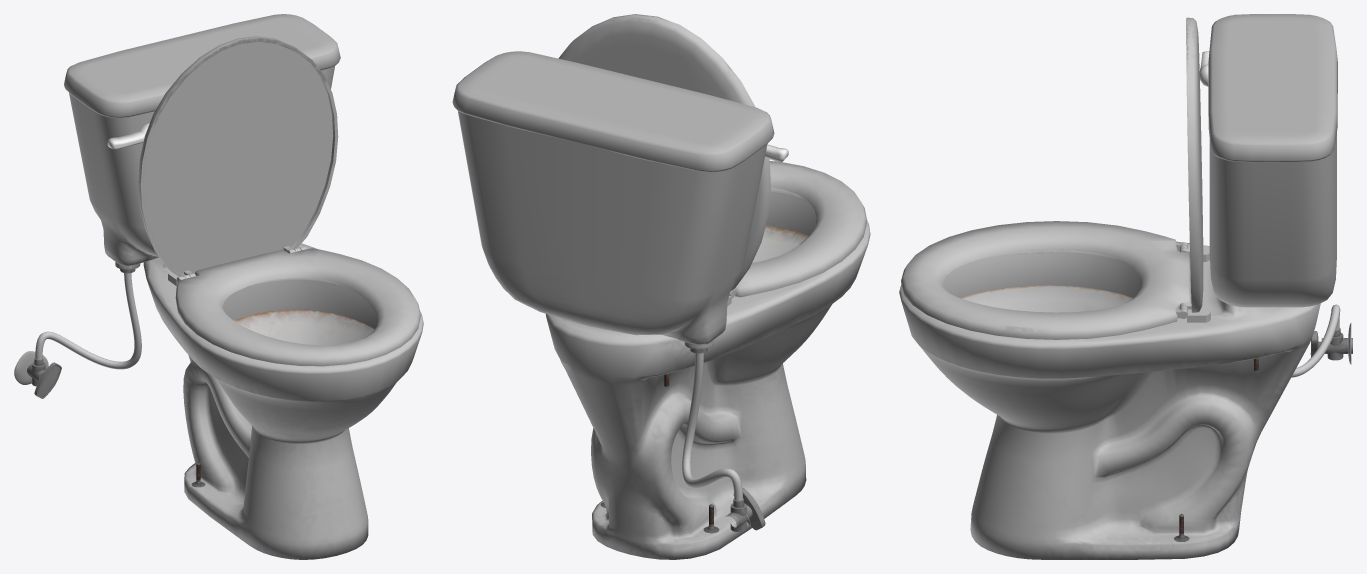
Rendered from toilet.glb.
3 views of the same model, side by side, from view 1: azimuth 30°, elevation 25°; view 2: azimuth 150°, elevation 25°; view 3: azimuth 270°, elevation 25° (orthographic). The views are drawn at different scales.
Parts seen in each view (by area): view 1: Toilet, ToiletSeatCover, ToiletSeat, ToiletFlushHandle; view 2: Toilet, ToiletSeatCover, ToiletSeat; view 3: Toilet, ToiletSeat, ToiletSeatCover.
Part boxes in pixels (box(x1,y1,x2,y2)): Toilet: box(14, 14, 423, 559); ToiletSeatCover: box(138, 36, 338, 277); ToiletSeat: box(175, 246, 420, 366); ToiletFlushHandle: box(107, 123, 149, 149); Toilet: box(452, 51, 870, 559); ToiletSeatCover: box(558, 14, 770, 290); ToiletSeat: box(729, 161, 866, 298); Toilet: box(899, 14, 1352, 559); ToiletSeat: box(901, 221, 1191, 339); ToiletSeatCover: box(1179, 17, 1203, 312).
Size of the model in its own units: 0.4783 by 0.7435 by 0.607.
Materials: 1 (1 with a texture image).
